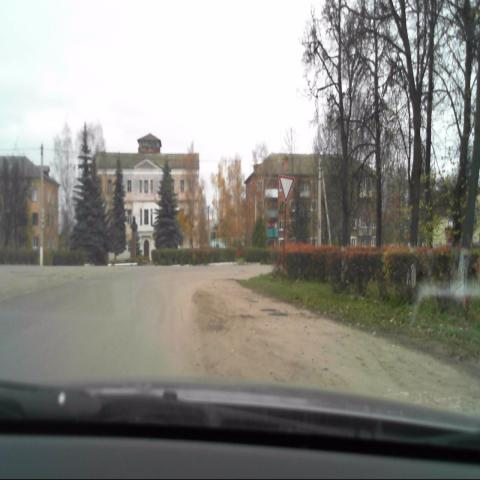2_4: (279, 174, 294, 202)
